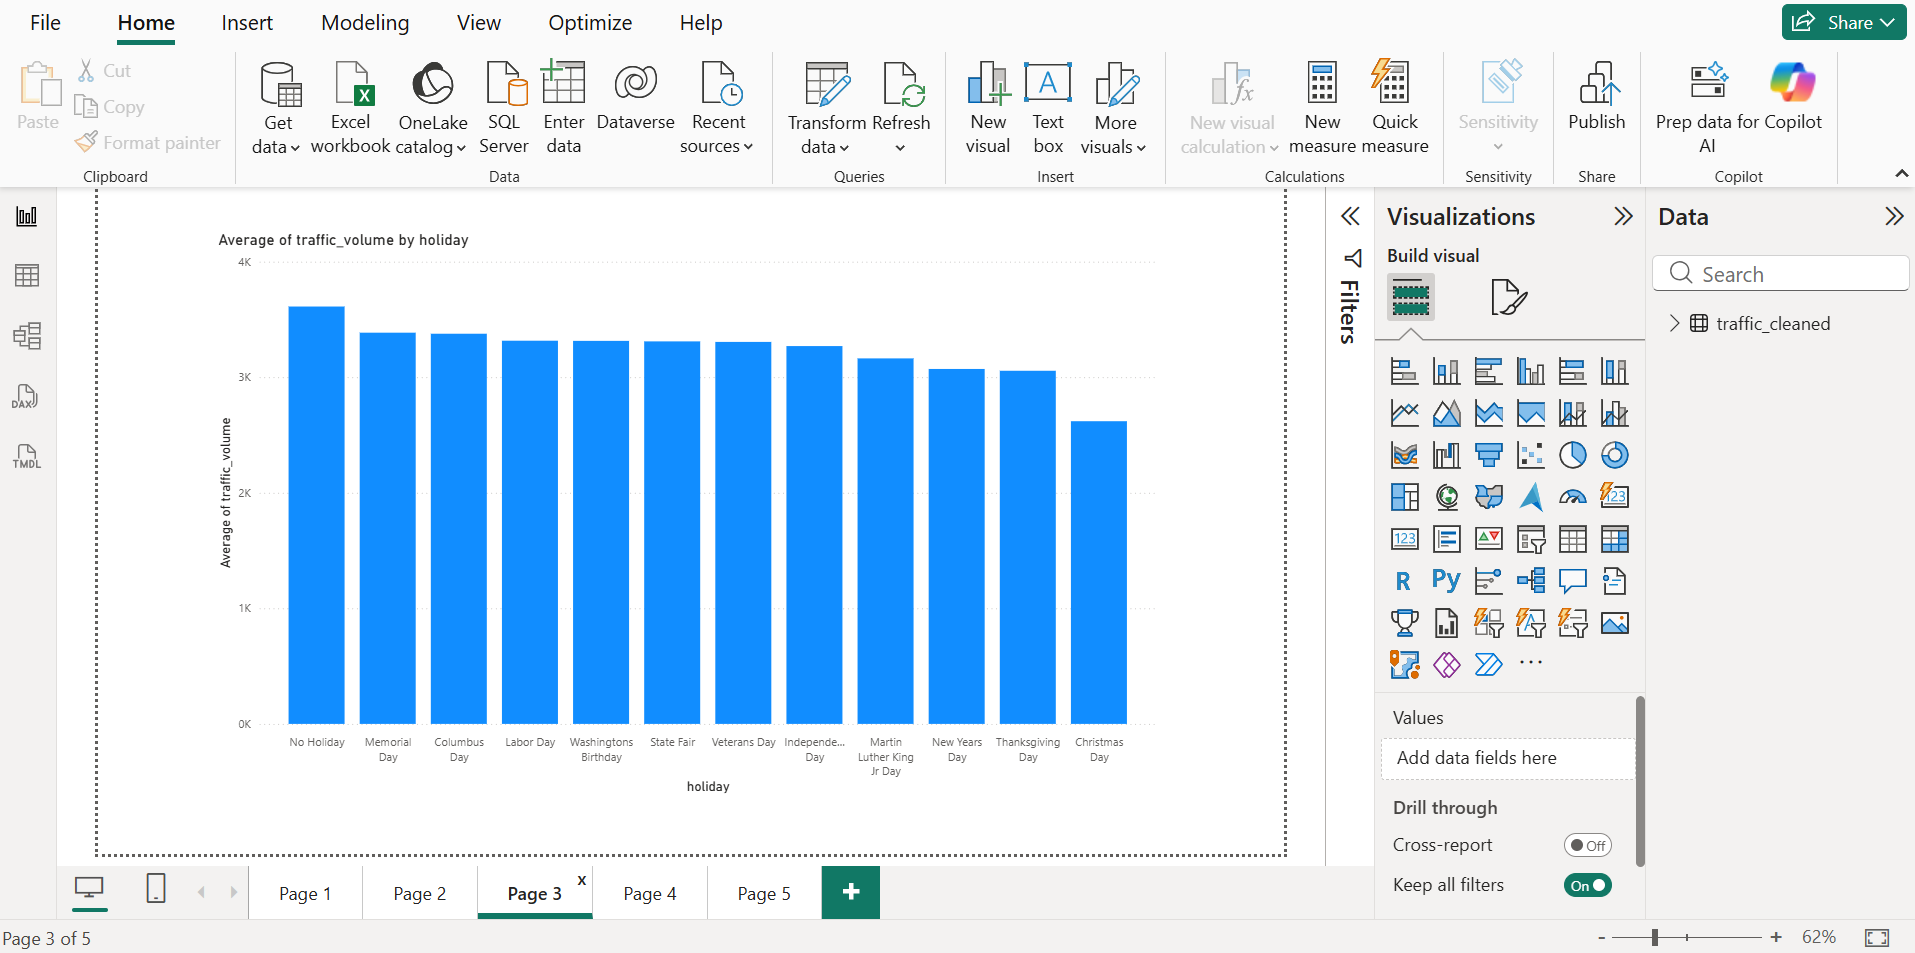

Layout of this report page (visuals, bound fields, positions):
{"tool":"powerbi","page":{"name":"Page 3","canvas":[1280,720],"ordinal":2},"visuals":[{"type":"clusteredColumnChart","fields":{"Y":["Avg(traffic_cleaned.traffic_volume)"],"Category":["traffic_cleaned.holiday"]},"box":[124.7,47.2,1022.4,612.3],"z":0}]}

Visuals, with their boxes on the page's 1280x720 design canvas (x1, y1, x2, y2). These are canvas units, not pixel positions in the 1915x953 screenshot, which may show the page scaled, cropped or inside an application window:
clusteredColumnChart - Avg(traffic_cleaned.traffic_volume) x traffic_cleaned.holiday: 125:47:1147:660
